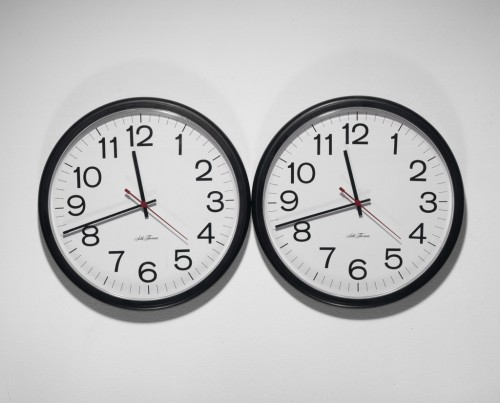clock: (261, 106, 457, 300), (49, 107, 240, 303)
